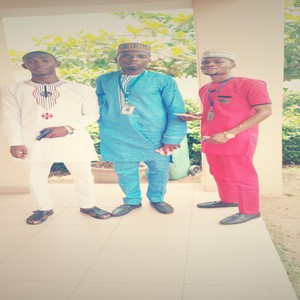Fulokoja_male_student: (4, 54, 99, 224), (96, 48, 175, 217), (201, 53, 267, 218)
